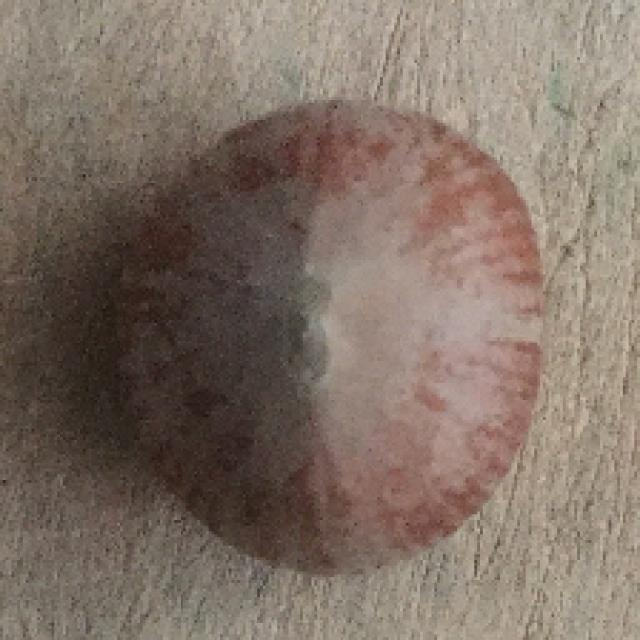qualityHazelnut: (116, 99, 542, 582)
